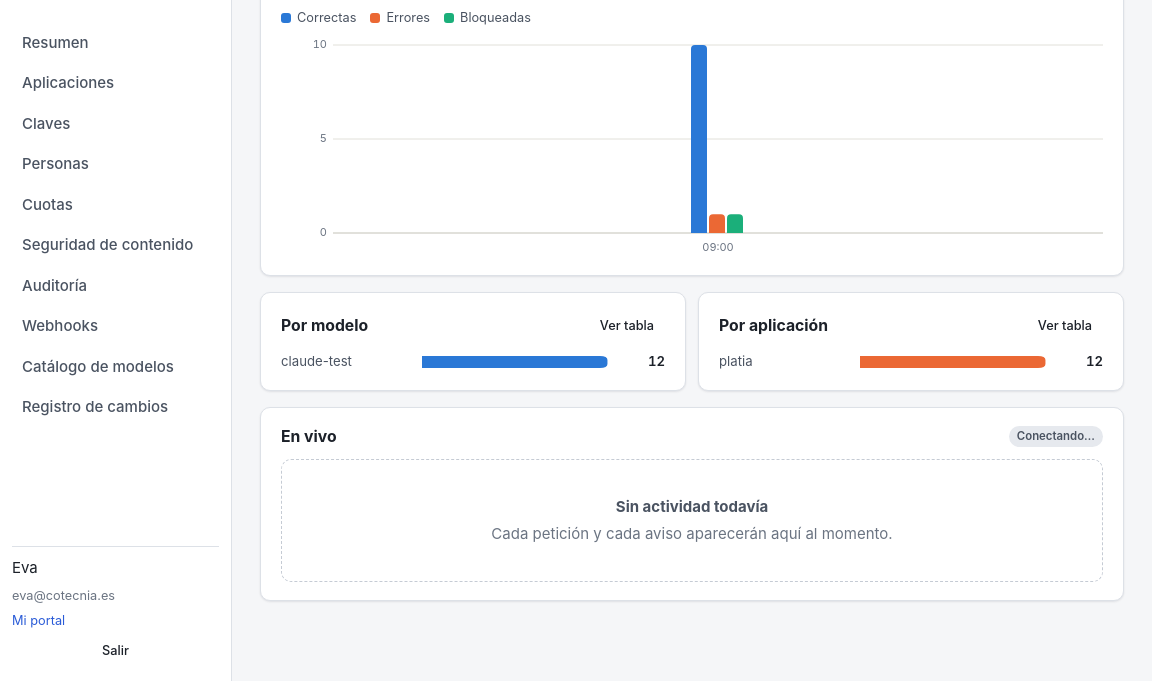
it: entrada al panel › el resumen tiene vista de tabla
(page scrolled)
Click the button "Ver tabla" in the row of "Por modelo" at [627, 326], box [589,311,665,340]
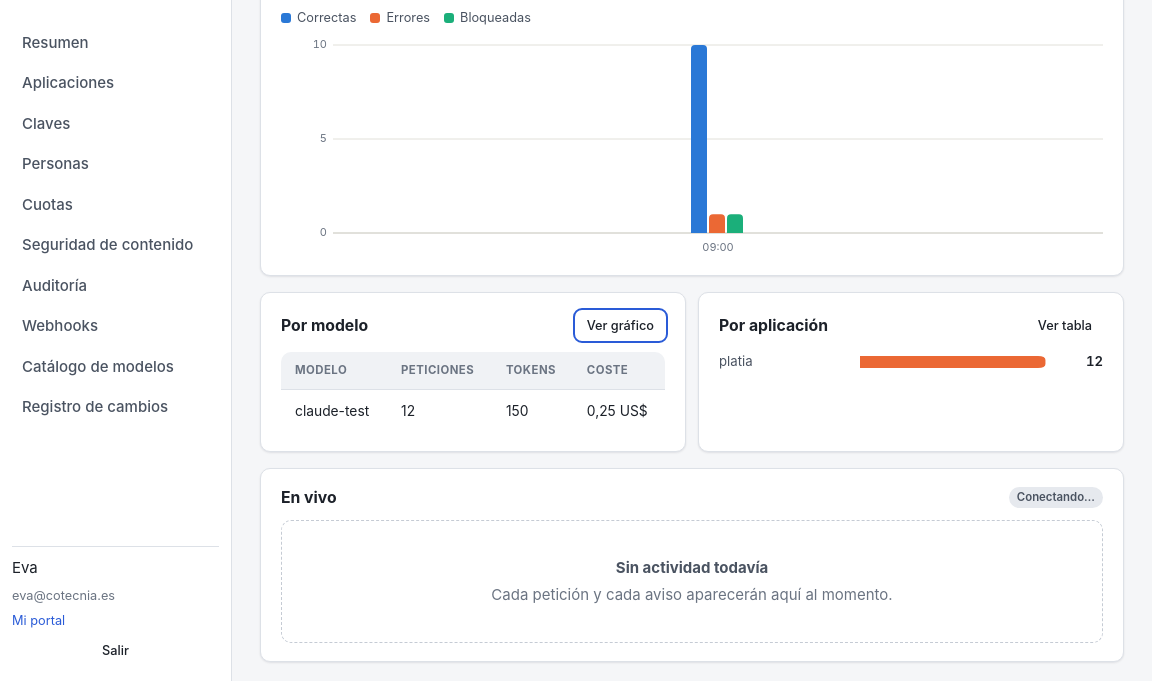
Now the column heading "Modelo" is shown, box [281,352,387,390]
